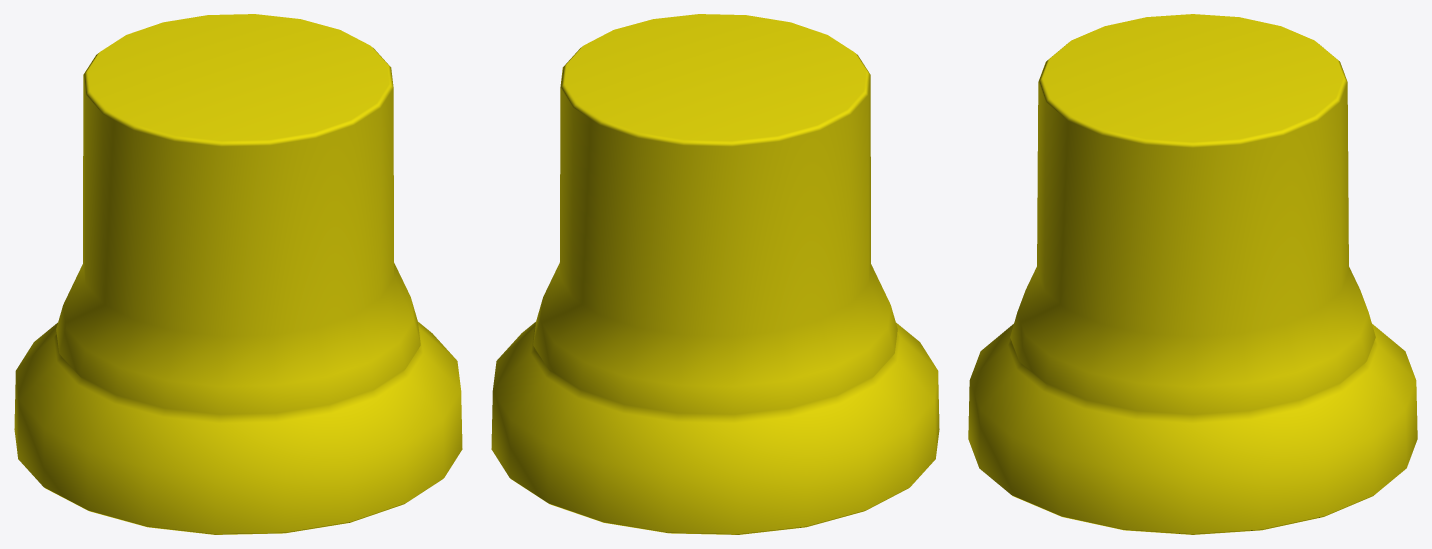
Rendered from Pillar_01A_Lod0.fbx.
The picture shows the model from 3 angles, left to right: view 1: azimuth 30°, elevation 25°; view 2: azimuth 150°, elevation 25°; view 3: azimuth 270°, elevation 25°; orthographic projection.
Visible parts, largest first — view 1: Pillar_01A_Lod0; view 2: Pillar_01A_Lod0; view 3: Pillar_01A_Lod0.
Boxes of the visible parts, x1,y1,x2,y2 form: Pillar_01A_Lod0: (14, 14, 462, 534); Pillar_01A_Lod0: (491, 14, 939, 534); Pillar_01A_Lod0: (968, 14, 1417, 534).
Size of the model in its own units: 399 by 355 by 399.
